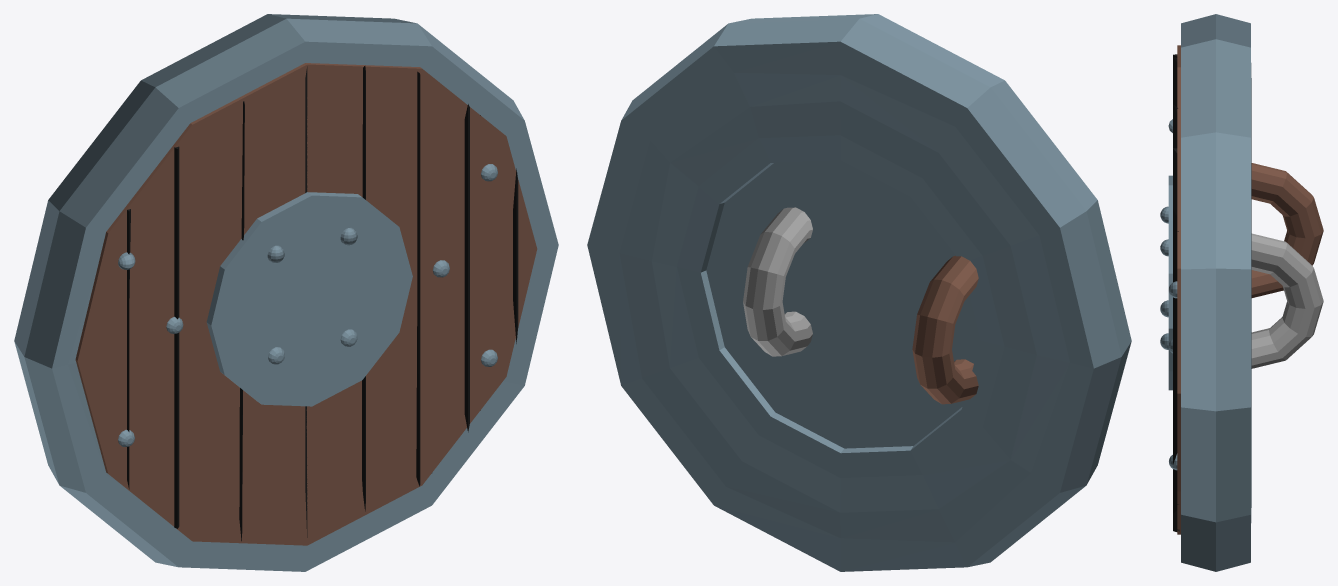
File: Small Round Shield.glb
3 renders of one model, left to right at view 1: azimuth 30°, elevation 25°; view 2: azimuth 150°, elevation 25°; view 3: azimuth 270°, elevation 25°, orthographic. The views are drawn at different scales.
Visible parts, largest first — view 1: Node; view 2: Node; view 3: Node.
Part boxes in pixels (bbox=[...]): Node: bbox=[14, 14, 558, 571]; Node: bbox=[587, 14, 1131, 571]; Node: bbox=[1160, 14, 1323, 571].
Size of the model in its own units: 0.65 by 0.65 by 0.1898.
